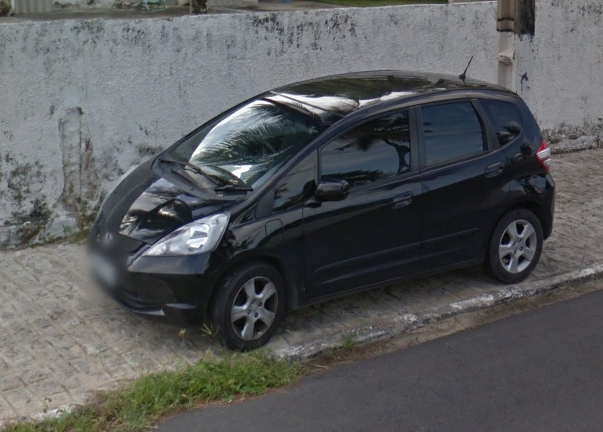car: (78, 52, 559, 354)
